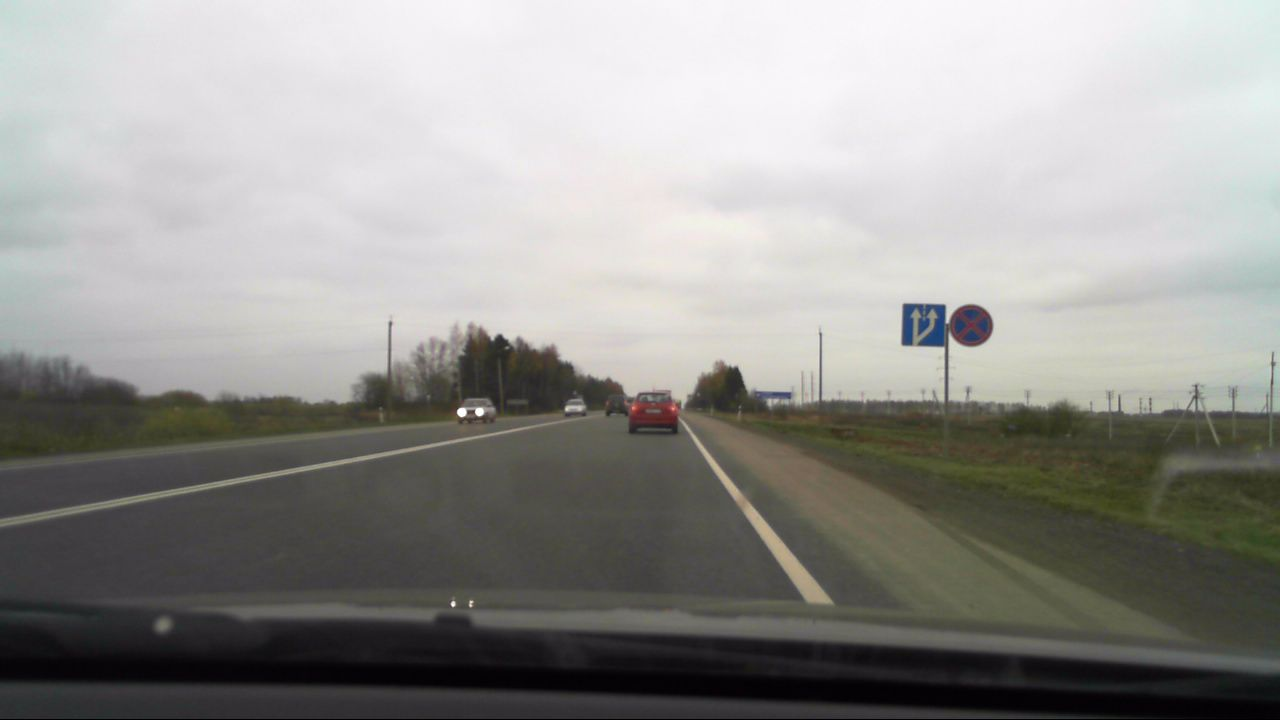No Parking: (949, 305, 995, 348)
